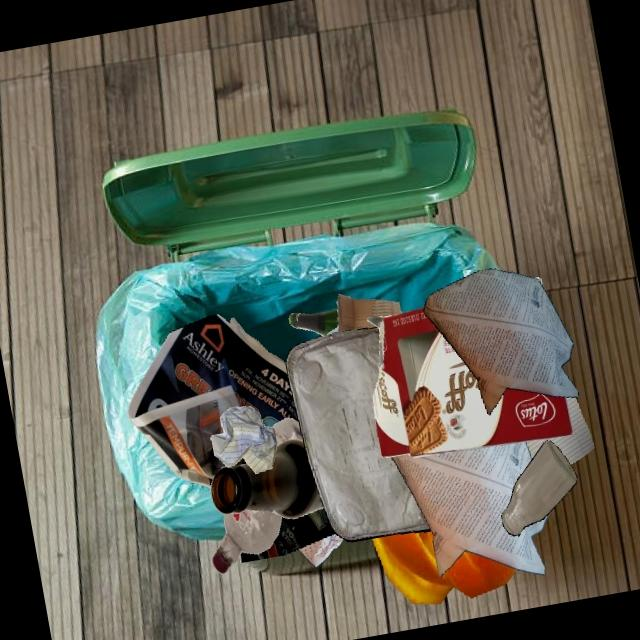biowaste: (372, 530, 515, 603)
cardboard: (367, 307, 573, 457), (337, 293, 401, 331)
glass: (210, 439, 323, 518), (501, 440, 576, 535), (288, 308, 338, 336)
metal: (285, 326, 431, 541)
paper: (127, 314, 298, 487), (423, 268, 578, 415), (390, 441, 549, 577), (525, 396, 594, 464), (210, 406, 277, 473), (297, 533, 343, 567)
plastic: (212, 509, 281, 573), (326, 326, 338, 335)
